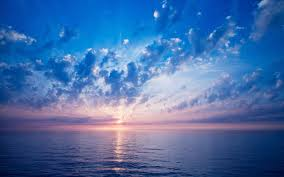sea: (5, 130, 284, 174)
sky: (2, 1, 284, 124)
